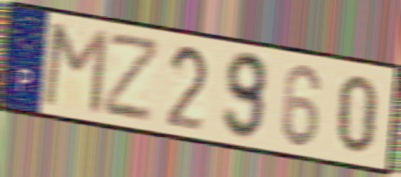0: (336, 73, 382, 156)
2: (162, 43, 214, 133)
6: (279, 61, 323, 150)
9: (219, 49, 269, 144)
M: (39, 21, 111, 118)
Z: (102, 33, 163, 124)
